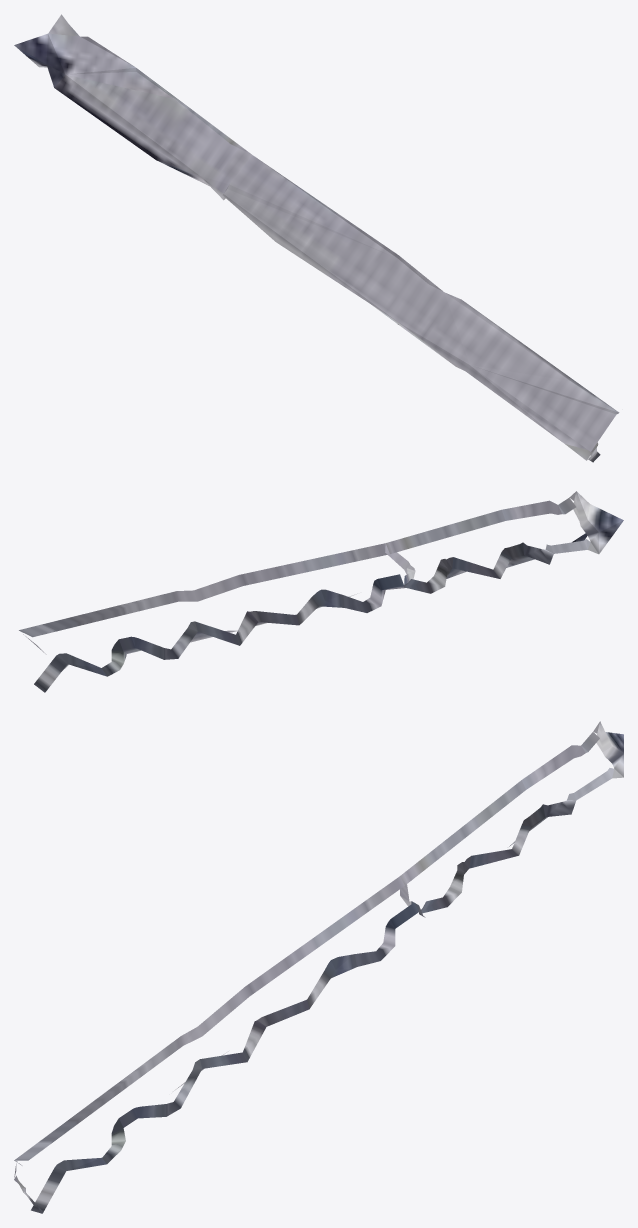
The model's file is UlRPVEYubm9kZWRhdGEucGxhbmV0b2lkPWVhcnRoLG5vZGVfZGF0YV9lcG9jaD05MTYscGF0aD0zMTQzNDE1MjYwNzM2MjcxNTY3NyxjYWNoZV92ZXJzaW9uPTY.glb.
The picture shows the model from 3 angles, top to bottom: view 1: azimuth 30°, elevation 25°; view 2: azimuth 210°, elevation 25°; view 3: azimuth 270°, elevation 25°; orthographic projection. The views are drawn at different scales.
Bounding box in the file's own units: 15.1 × 14.23 × 22.48.
Materials: 1 (1 with a texture image).
